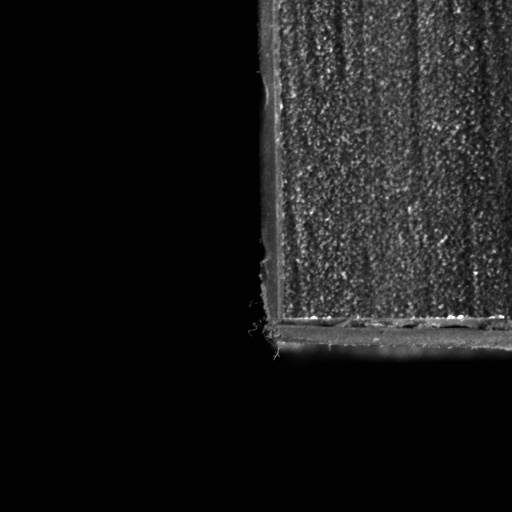kaijiao: (276, 312, 511, 359)
